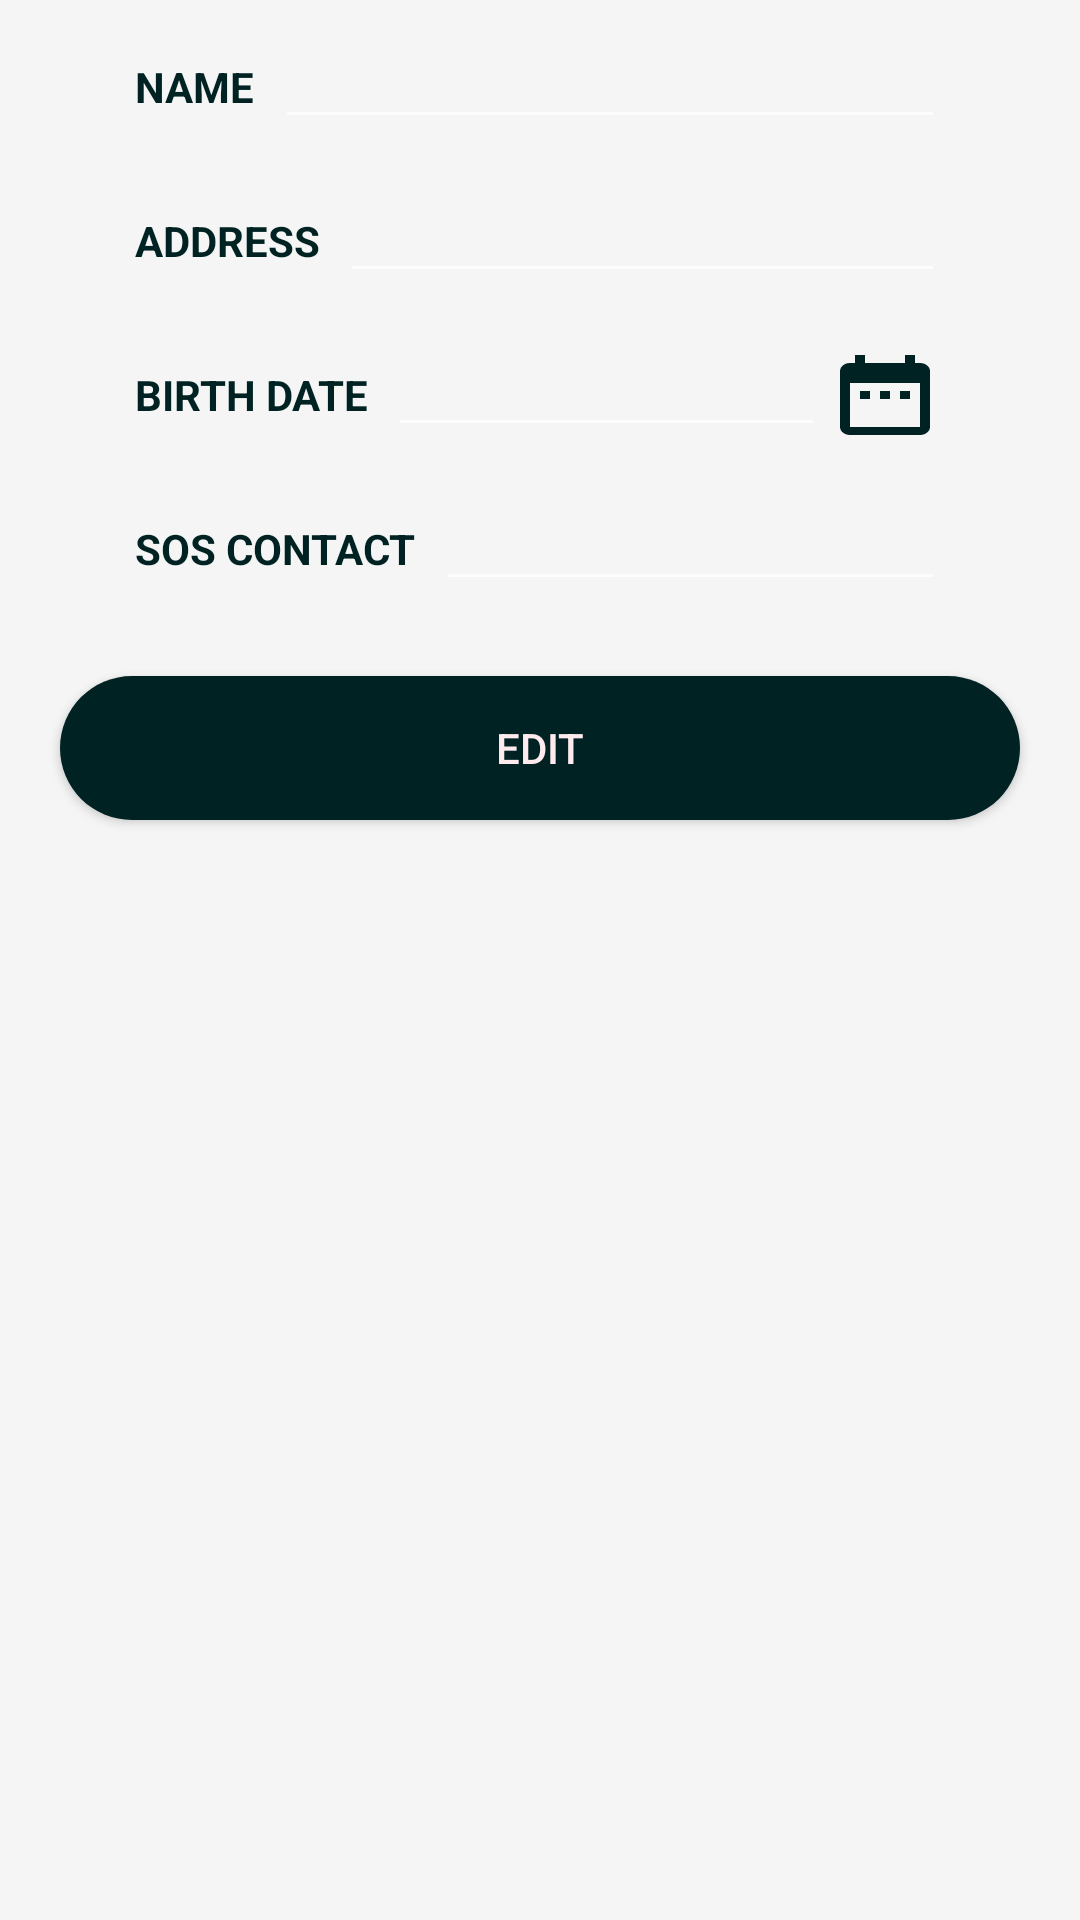

Locate icon controls on the screen. Image size 1080px x 1920px, boxes as [x1,y1,x2,y2].
date range: [840,355,930,435]
